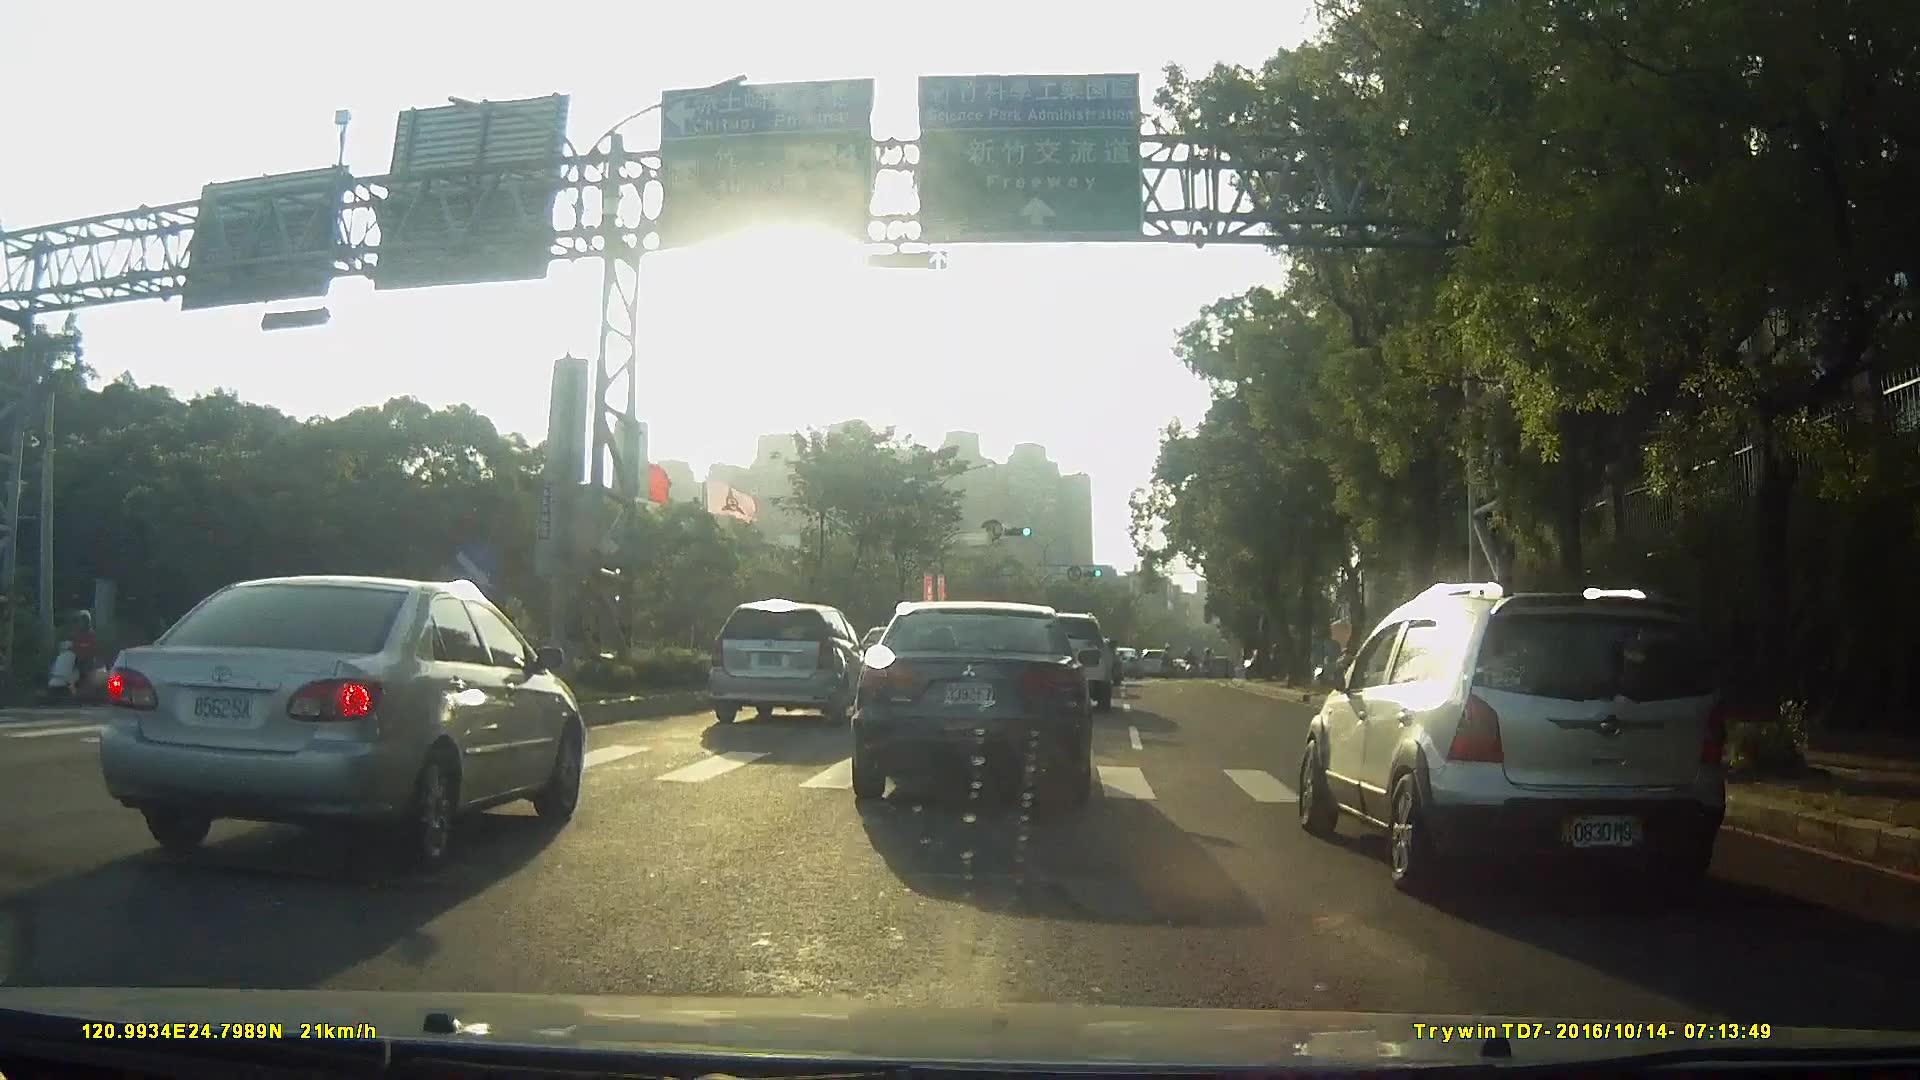pedestrian: (1619, 590, 1698, 784)
rider: (45, 609, 104, 708)
vehicle: (76, 569, 602, 876), (1284, 582, 1756, 921), (851, 595, 1116, 810), (698, 604, 868, 733), (1104, 648, 1137, 678), (1132, 651, 1165, 680)
